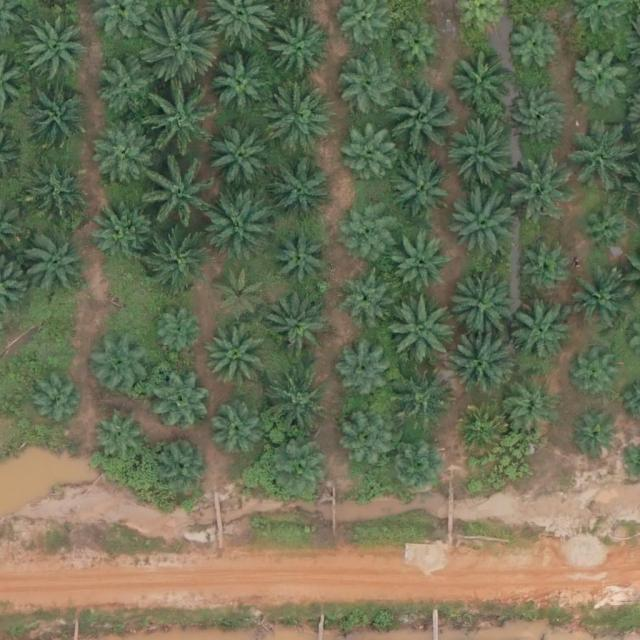Healthy: (445, 187, 515, 258), (447, 122, 517, 193), (386, 295, 456, 366), (264, 86, 334, 157), (207, 122, 278, 192), (206, 194, 276, 265), (16, 12, 86, 83), (144, 13, 215, 83), (146, 91, 216, 162), (142, 226, 212, 297), (506, 150, 576, 220), (448, 329, 518, 399), (443, 269, 513, 339), (383, 84, 453, 154), (263, 18, 333, 88), (261, 372, 331, 442), (146, 165, 216, 235), (570, 45, 633, 108), (449, 52, 512, 115), (339, 55, 402, 118), (149, 367, 212, 430), (97, 124, 160, 187), (89, 198, 152, 261), (24, 164, 87, 227), (566, 272, 628, 335), (566, 129, 628, 192), (510, 302, 572, 365), (389, 157, 451, 220), (390, 368, 452, 431), (271, 160, 333, 223), (266, 301, 328, 364), (272, 442, 334, 505), (212, 55, 274, 118), (206, 326, 268, 389), (88, 336, 150, 399), (25, 90, 88, 152), (25, 235, 88, 297), (507, 88, 569, 150), (100, 57, 162, 119), (453, 404, 508, 459), (579, 203, 634, 258), (505, 383, 560, 438), (389, 22, 444, 77), (396, 240, 451, 295), (390, 441, 445, 496), (335, 345, 390, 400), (335, 269, 390, 324), (215, 267, 270, 322), (152, 306, 207, 361), (29, 372, 84, 427), (213, 406, 268, 461), (156, 435, 211, 490), (93, 406, 148, 461), (506, 19, 560, 74), (520, 246, 574, 301), (342, 412, 396, 467), (341, 199, 395, 254), (343, 127, 397, 182), (275, 231, 329, 286)
Small: (574, 353, 621, 400), (572, 416, 619, 463)
